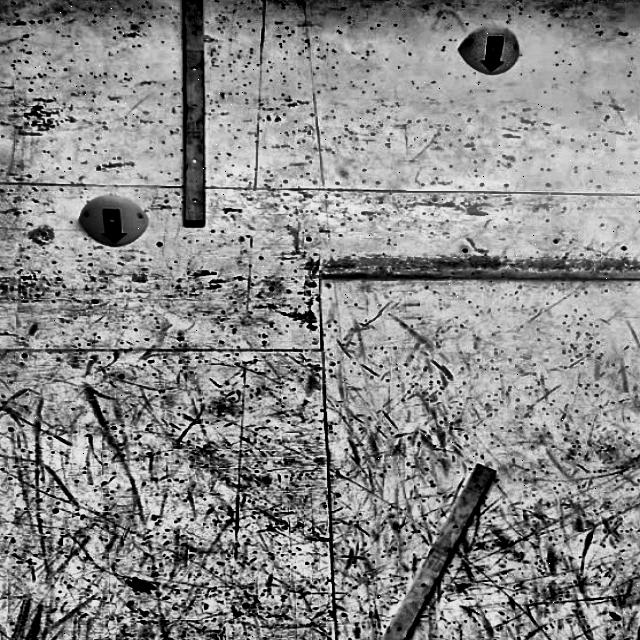Downclimb: (79, 194, 147, 247), (459, 29, 520, 75)
